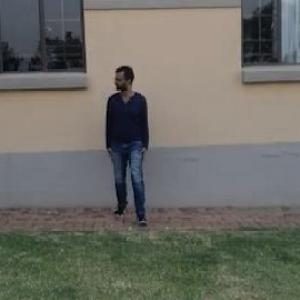follow: (103, 63, 150, 220)
